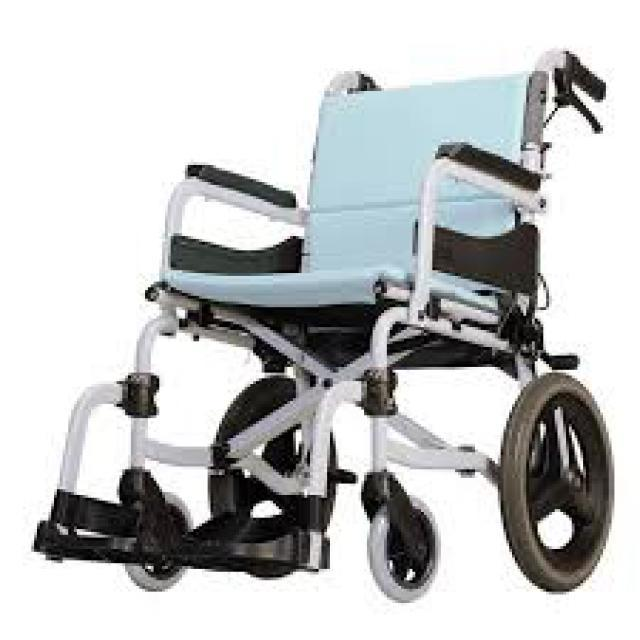wheelchair: (29, 37, 620, 594)
